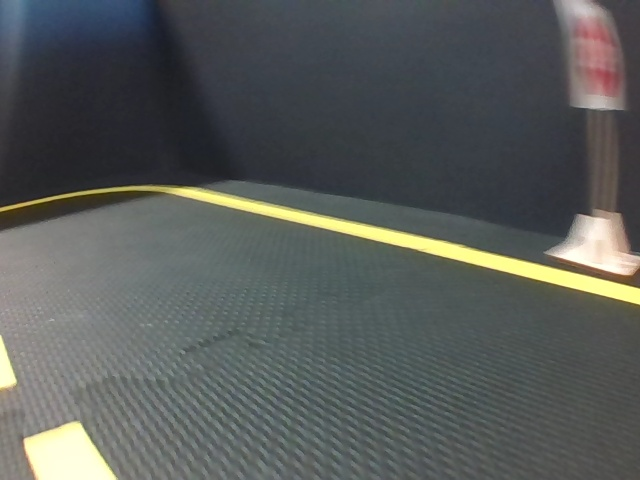stop: (561, 1, 625, 108)
